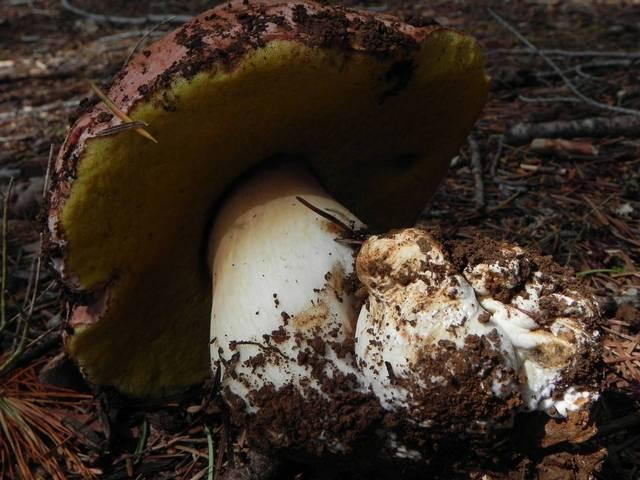edible_mushroom: (39, 0, 491, 403)
